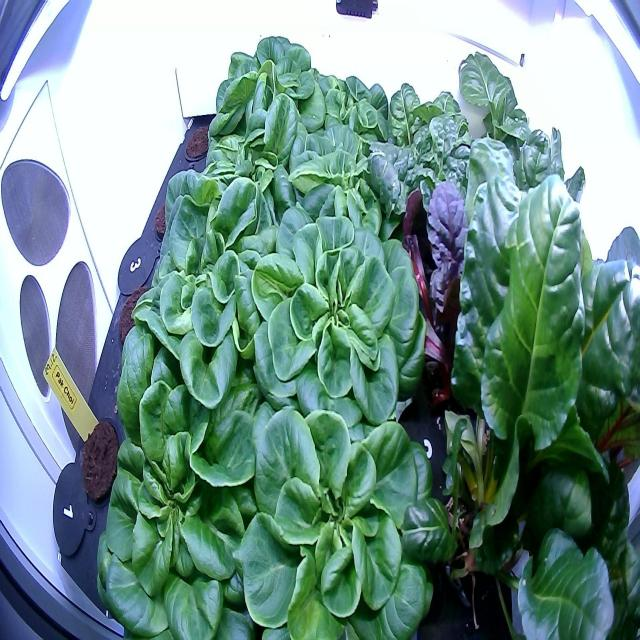Ready: (237, 390, 460, 640), (92, 352, 282, 640), (115, 148, 298, 420), (243, 188, 432, 437), (200, 75, 326, 210), (272, 119, 403, 244), (210, 28, 328, 132), (305, 63, 393, 154)
pod: (77, 411, 127, 507), (180, 116, 216, 166)
